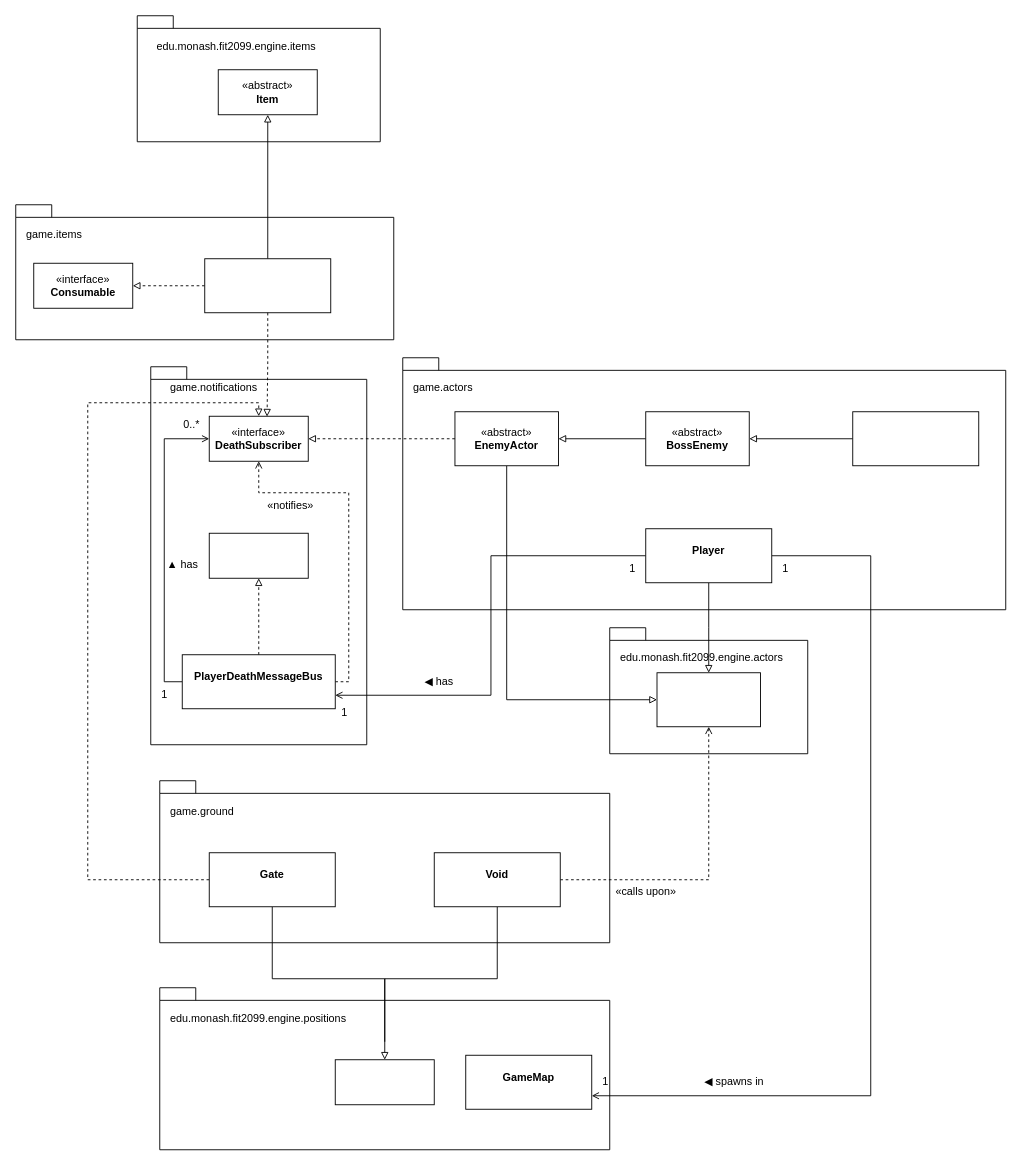
The diagram is 1022 pixels wide and 1166 high, and some of its shapes have lost their labels. The box of each missing label's shape, as (x1, y1, x2, y2) in pixels:
Abxervyer: (852, 411, 979, 466)
Rune: (204, 258, 331, 313)
«abstract» Actor: (656, 672, 760, 727)
«abstract» Ground: (334, 1059, 434, 1105)
«interface» DeathPublisher: (208, 532, 308, 578)
